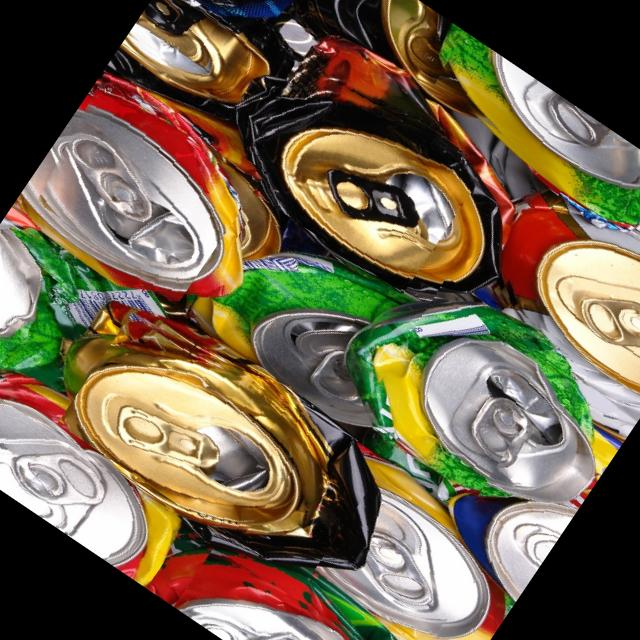Cans: (220, 45, 487, 293), (56, 301, 324, 548), (352, 277, 606, 524), (16, 65, 266, 306), (181, 209, 403, 419), (423, 30, 640, 244), (313, 468, 500, 640), (490, 190, 640, 395), (0, 363, 147, 560), (172, 537, 429, 640), (444, 430, 596, 592), (123, 0, 327, 102), (0, 219, 105, 399)
